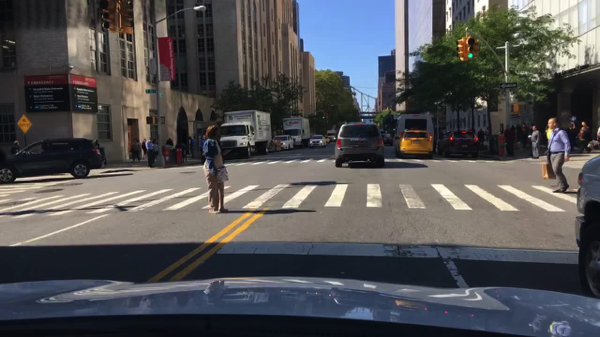car: (0, 138, 104, 184), (573, 154, 599, 299), (334, 122, 382, 169), (436, 130, 480, 160), (393, 128, 433, 160), (273, 135, 294, 150), (306, 135, 327, 150), (381, 132, 395, 145), (323, 135, 330, 144)
person: (201, 124, 229, 213), (540, 117, 570, 194), (572, 120, 592, 155), (527, 125, 541, 160), (145, 135, 157, 169), (504, 123, 515, 160), (586, 125, 599, 154), (130, 136, 141, 163), (565, 124, 576, 150), (496, 130, 506, 158), (519, 121, 529, 149), (199, 135, 207, 166), (512, 122, 522, 144), (186, 135, 195, 158), (151, 138, 158, 166), (140, 138, 148, 162), (541, 126, 549, 150), (476, 128, 485, 147), (10, 140, 21, 154), (502, 125, 512, 140), (483, 125, 489, 142), (165, 135, 173, 144), (94, 139, 97, 146)
traffic light: (99, 1, 117, 33), (120, 0, 132, 34), (465, 35, 474, 60), (455, 38, 464, 61), (471, 39, 479, 57), (509, 103, 519, 113), (145, 116, 154, 125), (321, 111, 326, 120), (379, 113, 382, 122)
traffic sign: (16, 113, 32, 135), (144, 87, 158, 95), (499, 83, 515, 90), (159, 91, 165, 97)
truck: (216, 110, 271, 159), (391, 113, 433, 151), (280, 118, 311, 150), (327, 131, 337, 141)
